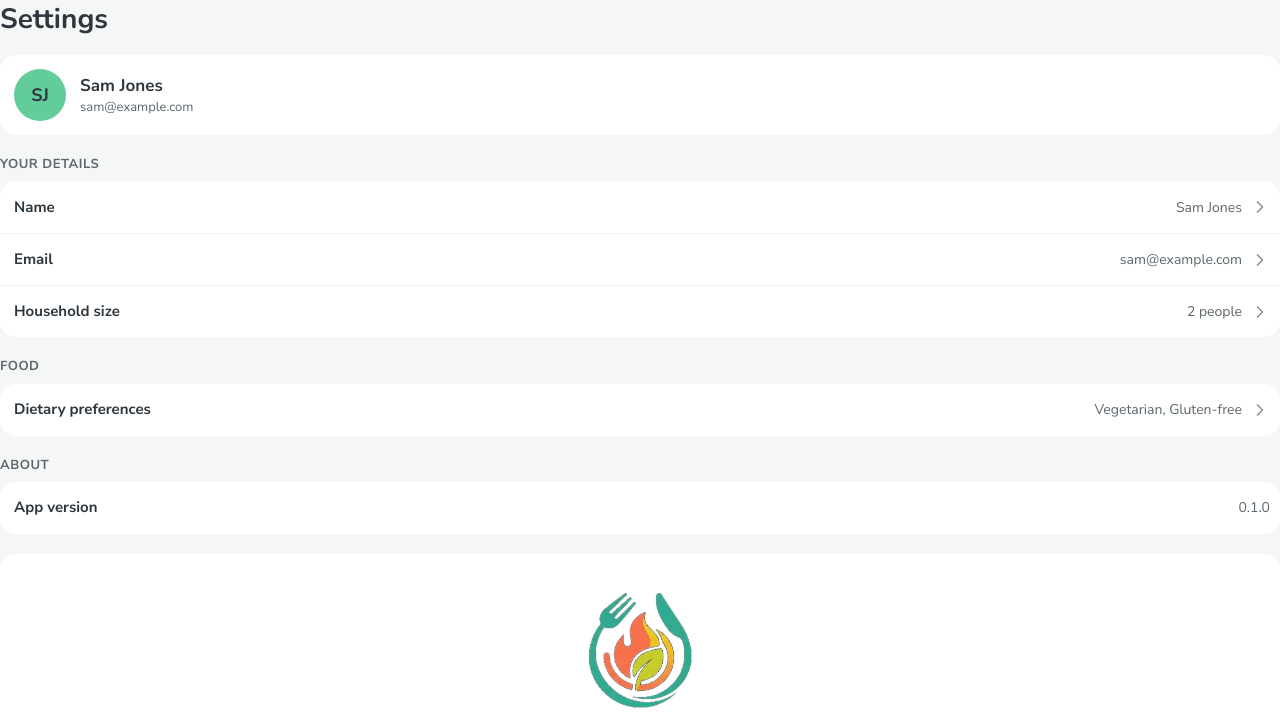
Test: SettingsPage › edits the household size and saves the whole profile
Click the button "Household size 2 people".
click(67, 311)  # box [0,285,1279,337]
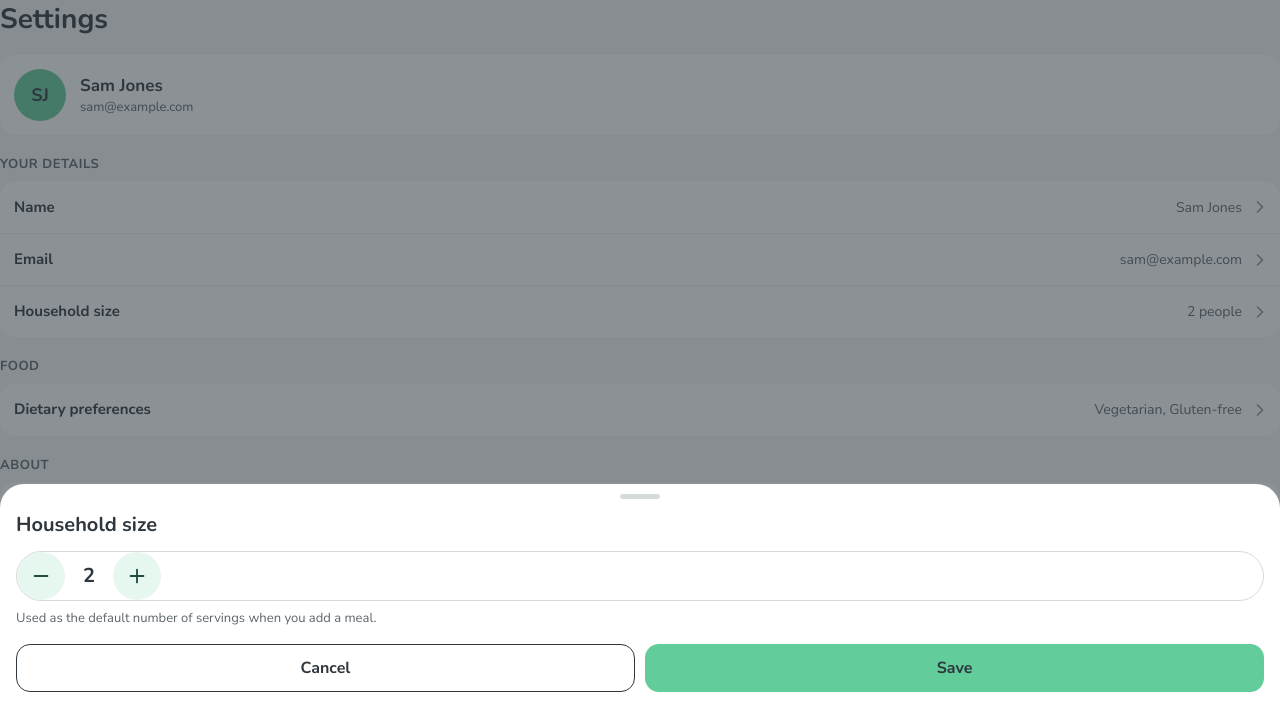
Click the button named "More people".
click(137, 576)  # box [113,552,161,600]
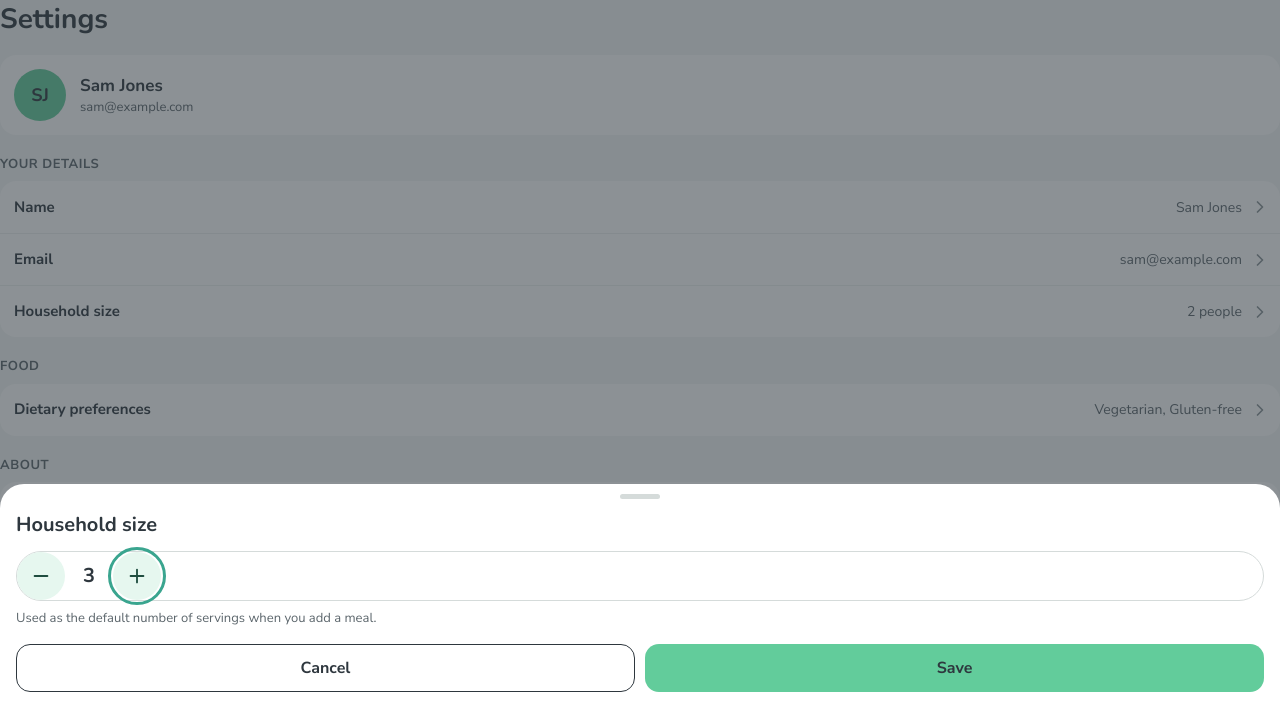
Click the button named "More people".
click(137, 576)  # box [113,552,161,600]
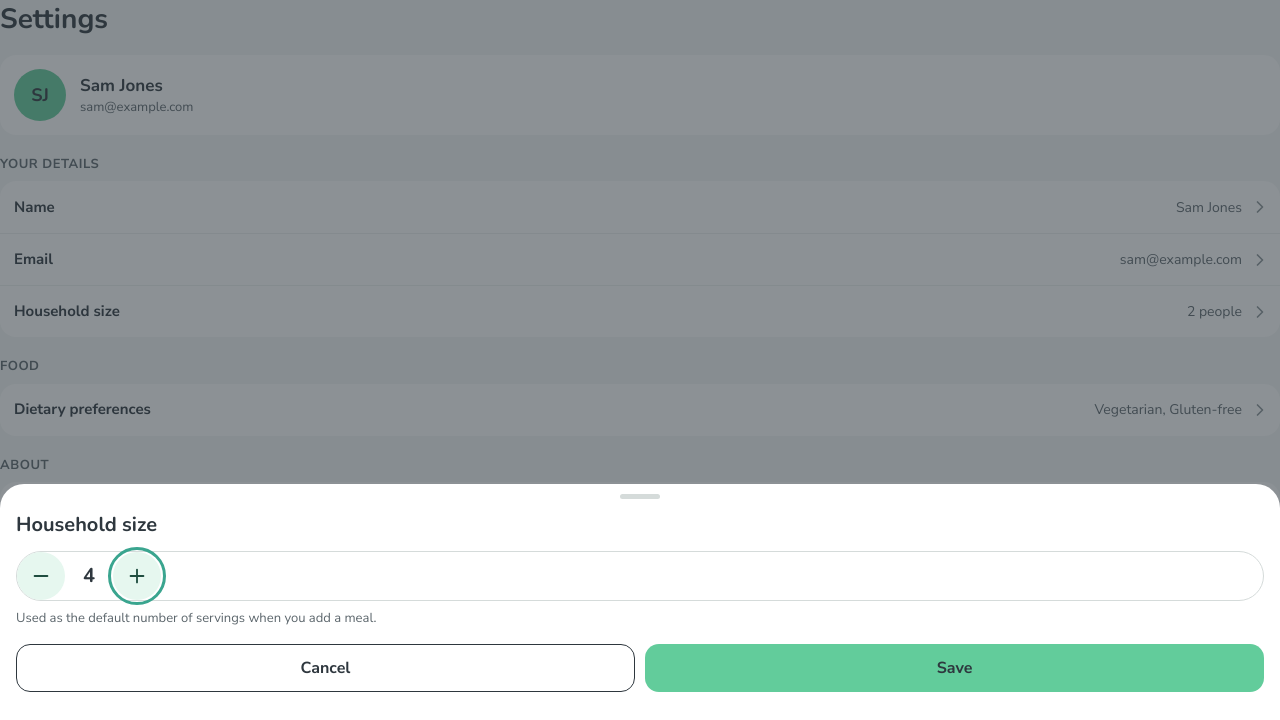
Click the button "Save".
click(954, 668)  # box [645,644,1264,692]
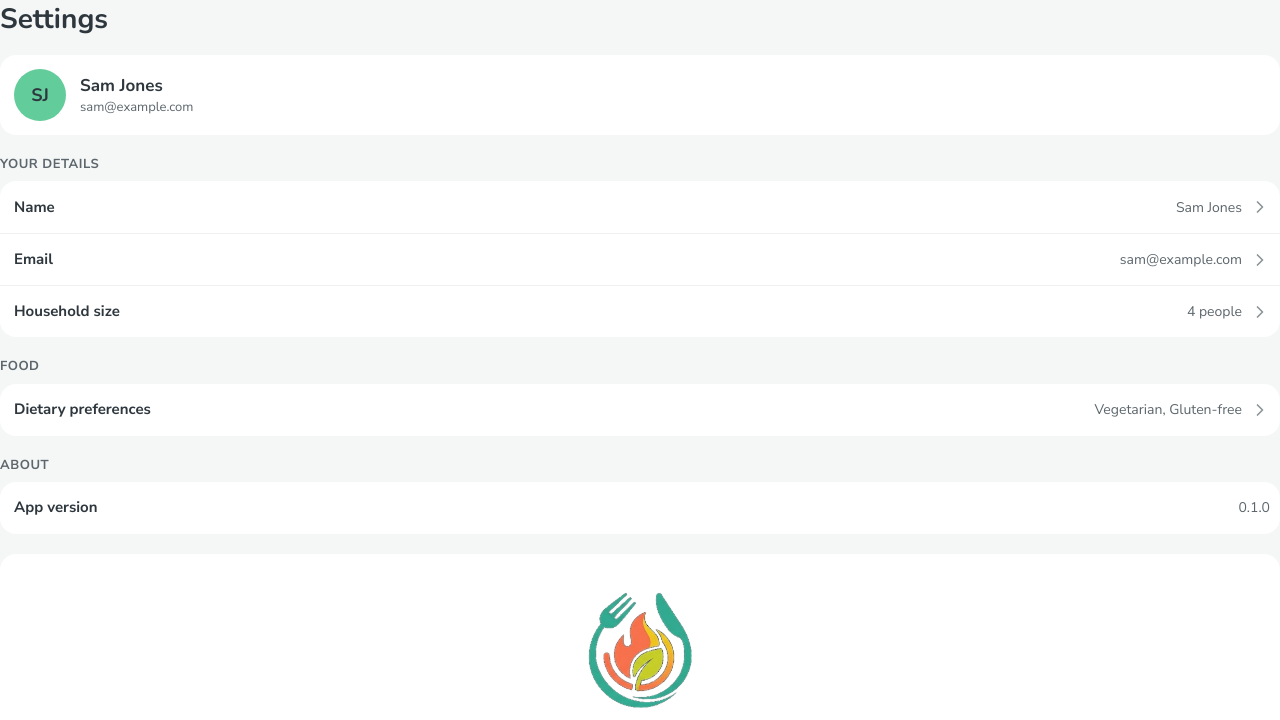
Check: the dialog is gone
Check: the button "Household size 4 people" is shown, box [0,285,1279,337]
